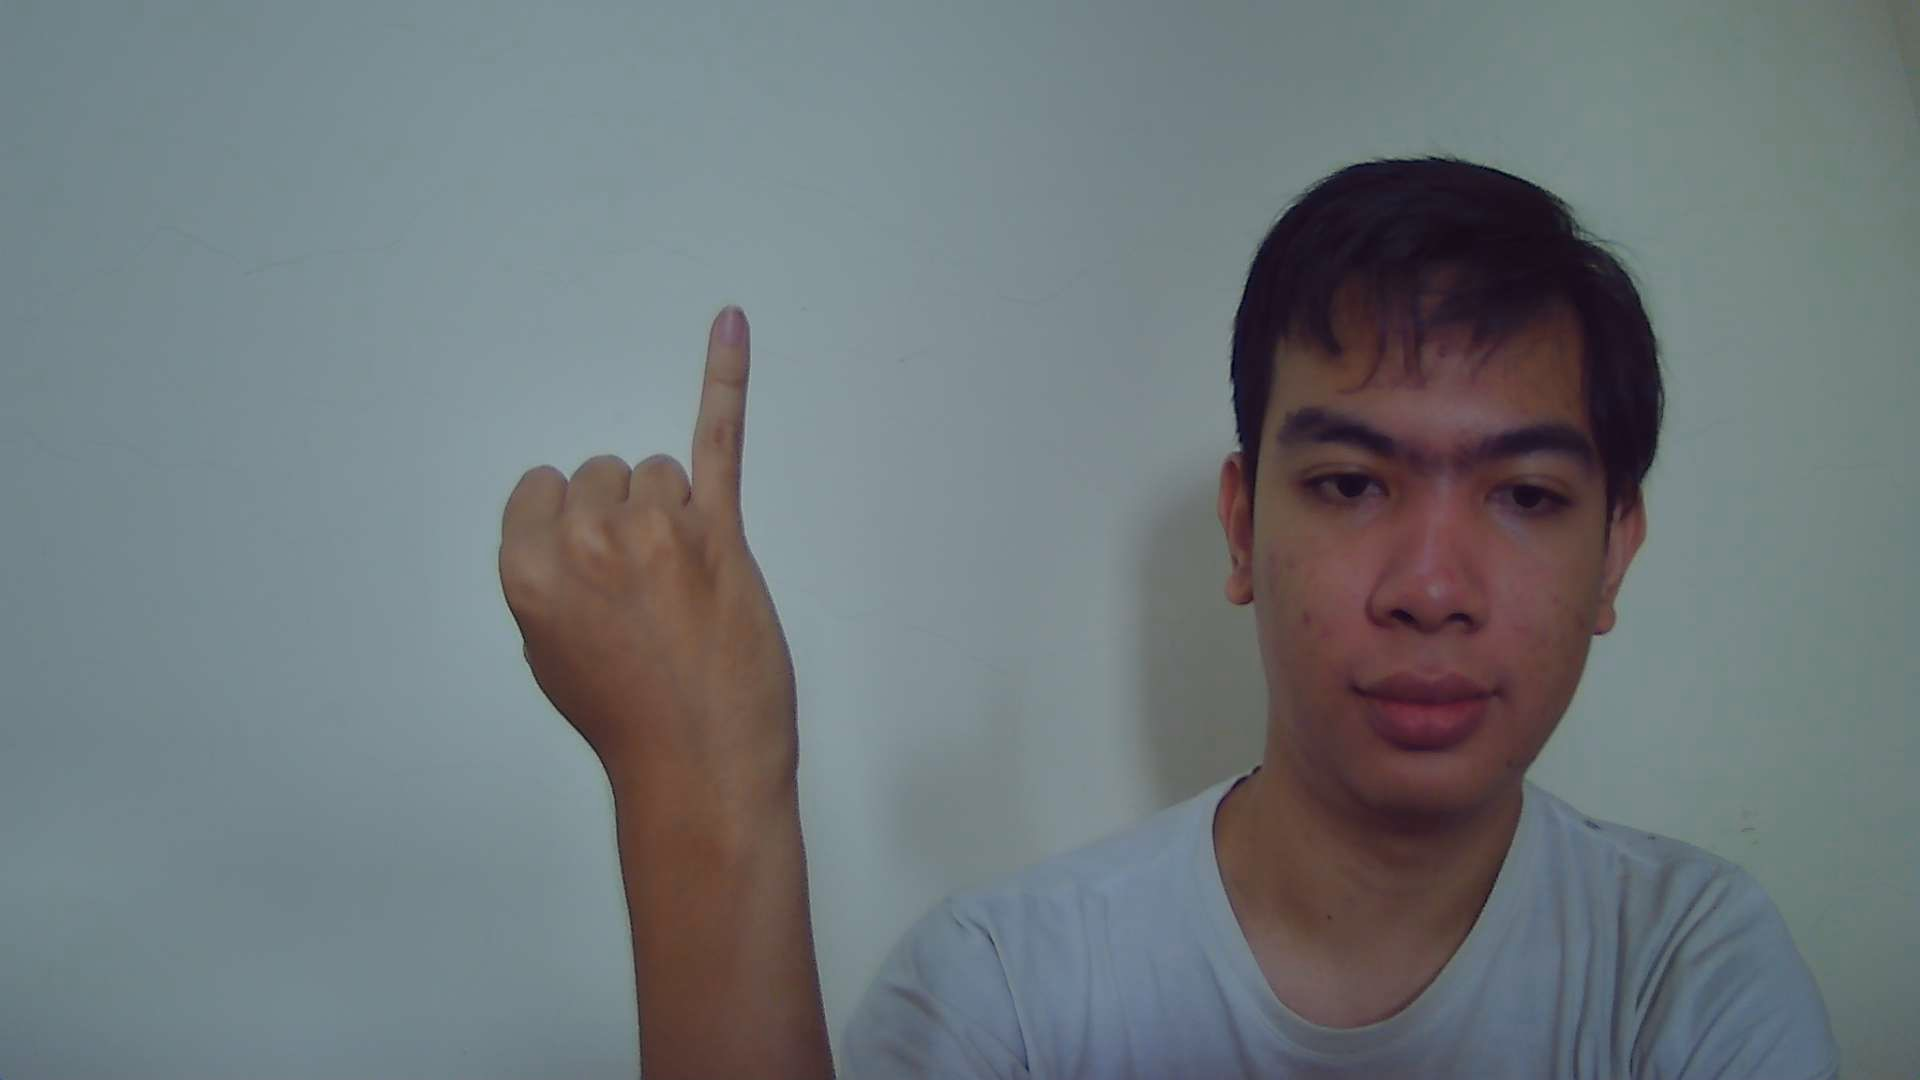j: (492, 299, 807, 692)
